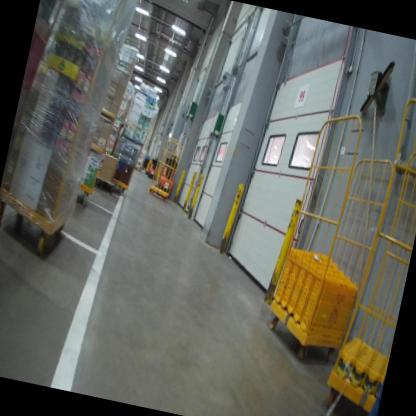pallet_truck: (152, 153, 183, 200), (144, 148, 164, 183)
